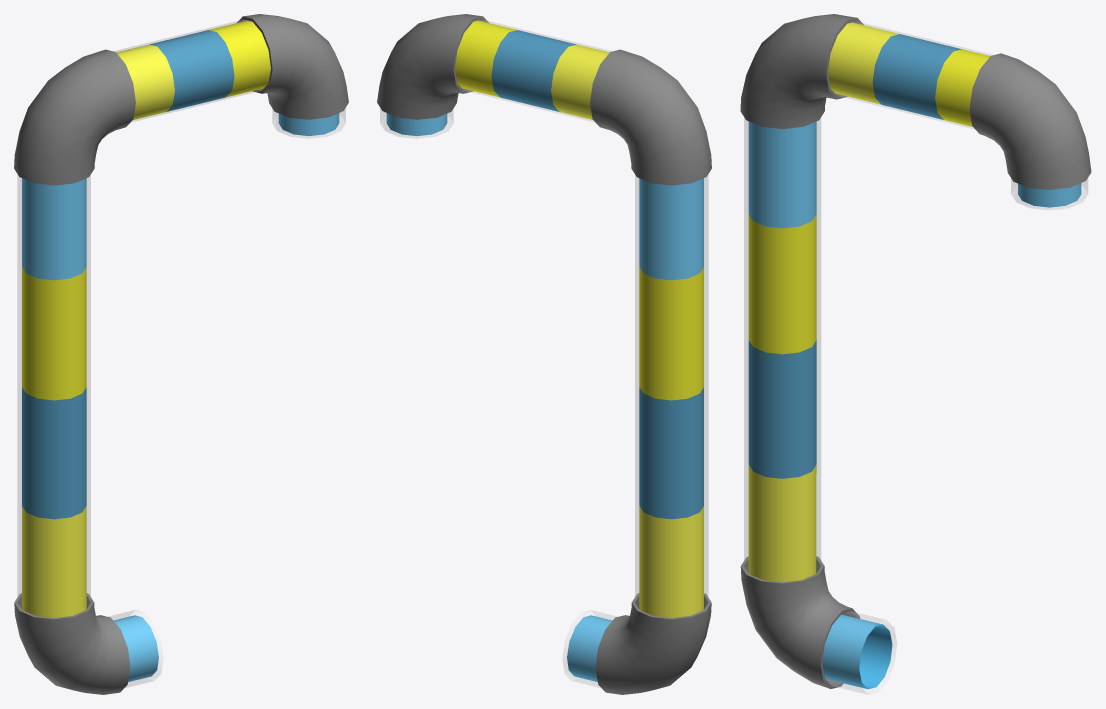
The model's file is pipe_stand_2.fbx.
3 views of the same model, side by side, from view 1: azimuth 30°, elevation 25°; view 2: azimuth 150°, elevation 25°; view 3: azimuth 330°, elevation 25° (orthographic). The views are drawn at different scales.
Parts seen in each view (by area): view 1: pipe_stand yellow.blue; view 2: pipe_stand yellow.blue; view 3: pipe_stand yellow.blue.
Boxes of the visible parts, x1=… form: pipe_stand yellow.blue: x1=14, y1=14, x2=348, y2=694; pipe_stand yellow.blue: x1=377, y1=14, x2=711, y2=694; pipe_stand yellow.blue: x1=740, y1=14, x2=1091, y2=694.
Size of the model in its own units: 139 by 260 by 29.84.
